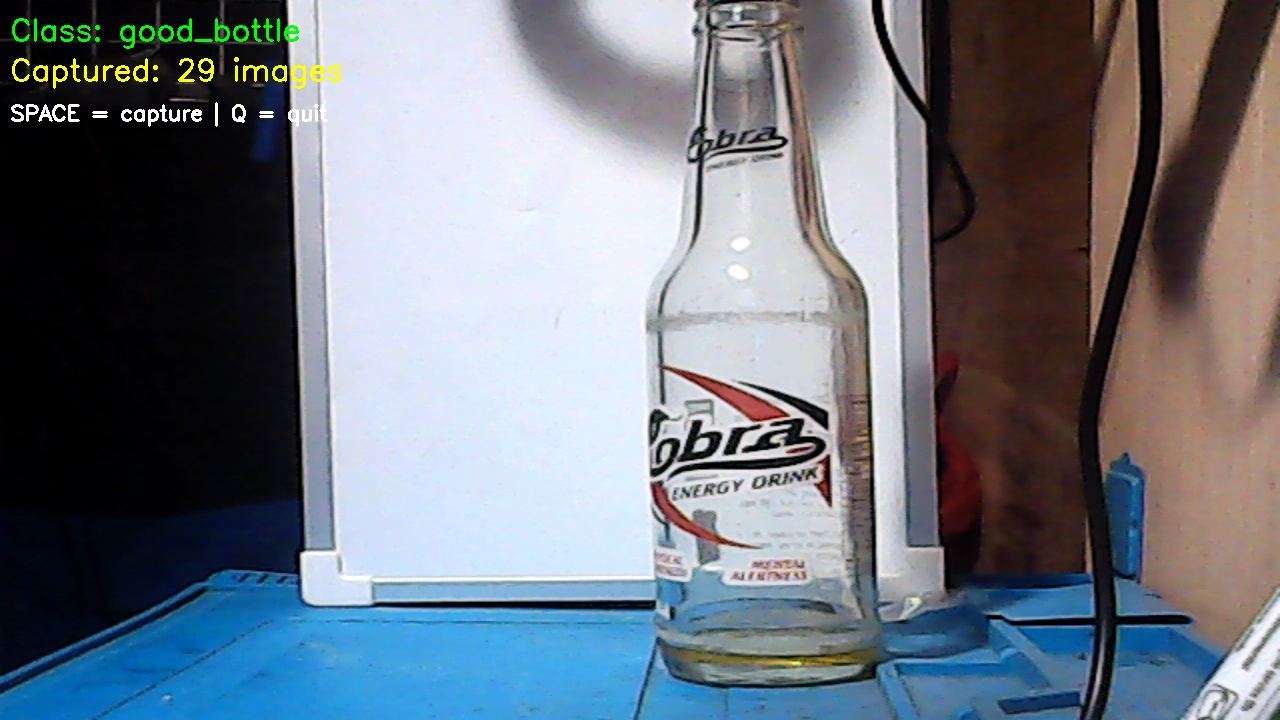good_bottle: (636, 2, 893, 673)
